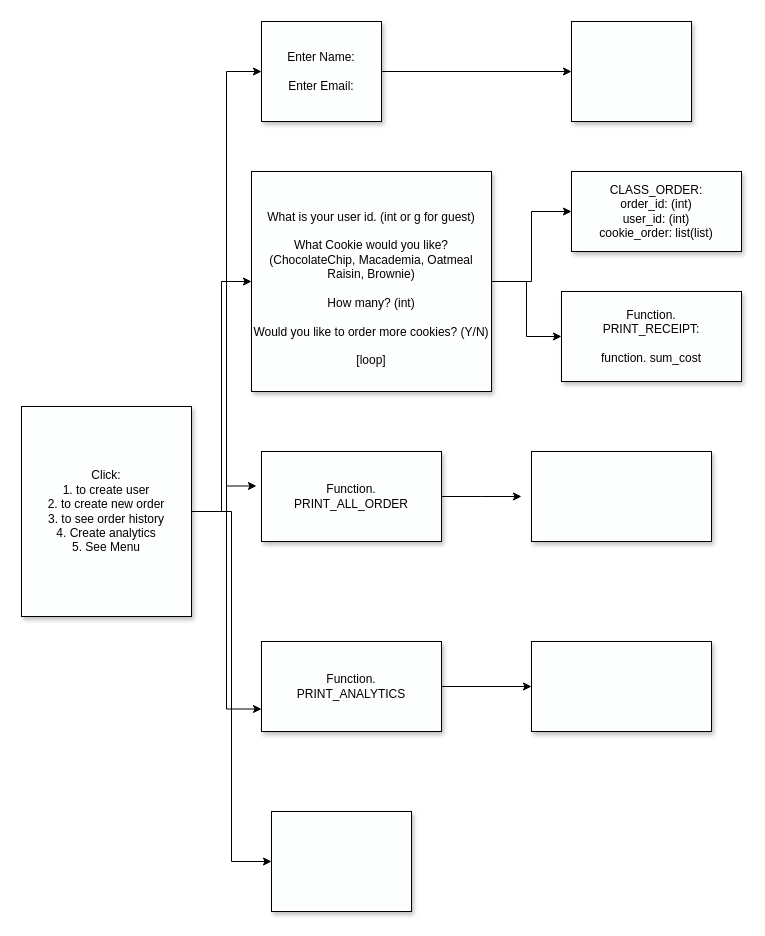
The diagram is 765 pixels wide and 936 high, and some of its shapes have lost their labels. Each missing label, with the centre of its shape:
"Output File: $datetime_all_receipt.txt" belongs at [622,497].
"Output File: $datetime_anlytics.txt" belongs at [622,687].
"PRINT: Chocolate Chip $100 Macademia Nut $120 Oatmeal Raisin $90 Brownie $200" belongs at [342,862].
"USER: user_id (int) user_name (string) user_email (string)" belongs at [632,72].
